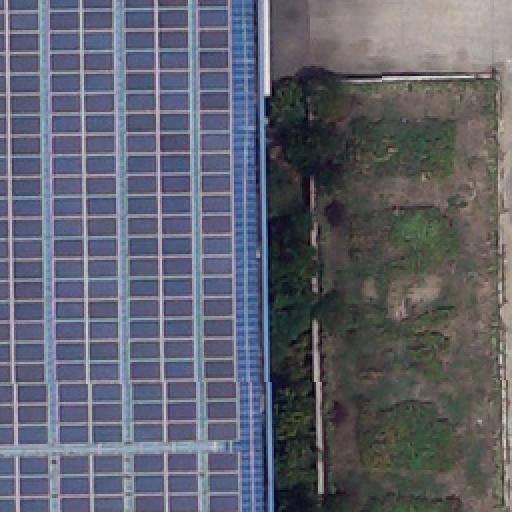solar-panel: (0, 0, 242, 512)
